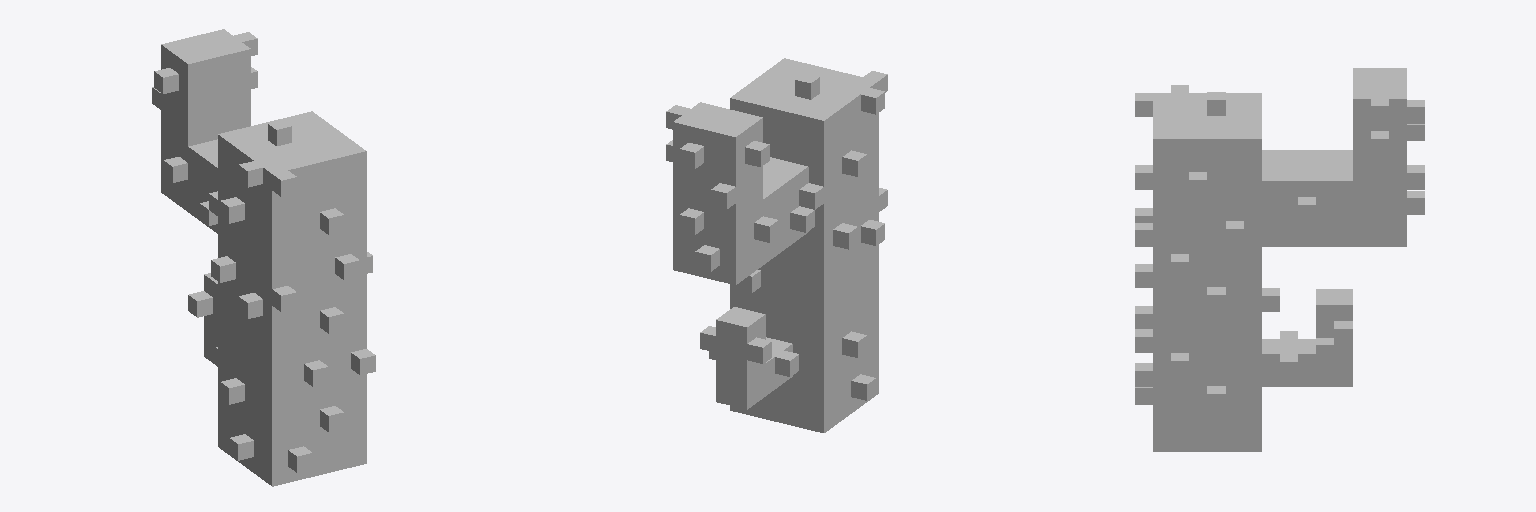
The model's file is cactus_2.obj.
3 views of the same model, side by side, from view 1: azimuth 30°, elevation 25°; view 2: azimuth 150°, elevation 25°; view 3: azimuth 270°, elevation 25° (orthographic).
Visible parts, largest first — view 1: object 1; view 2: object 1; view 3: object 1.
Boxes of the visible parts, box(x1,y1,x2,y2) form: object 1: box(152, 29, 375, 486); object 1: box(666, 58, 887, 432); object 1: box(1135, 68, 1424, 451).
Size of the model in its own units: 0.8 by 2.1 by 1.6.